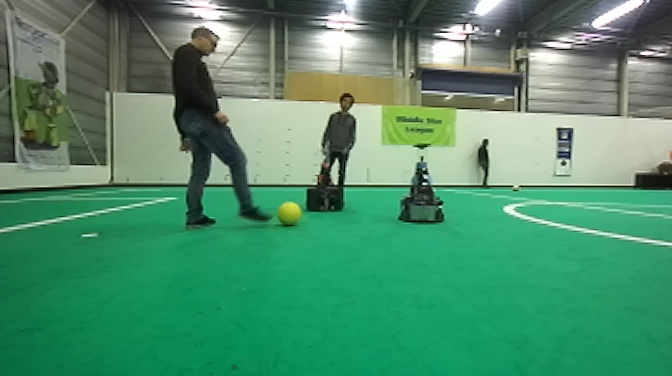ball: (277, 200, 303, 226), (509, 181, 523, 194)
human: (171, 28, 275, 227), (318, 92, 358, 207), (473, 133, 495, 189)
robot: (396, 141, 447, 225), (306, 148, 347, 212)
